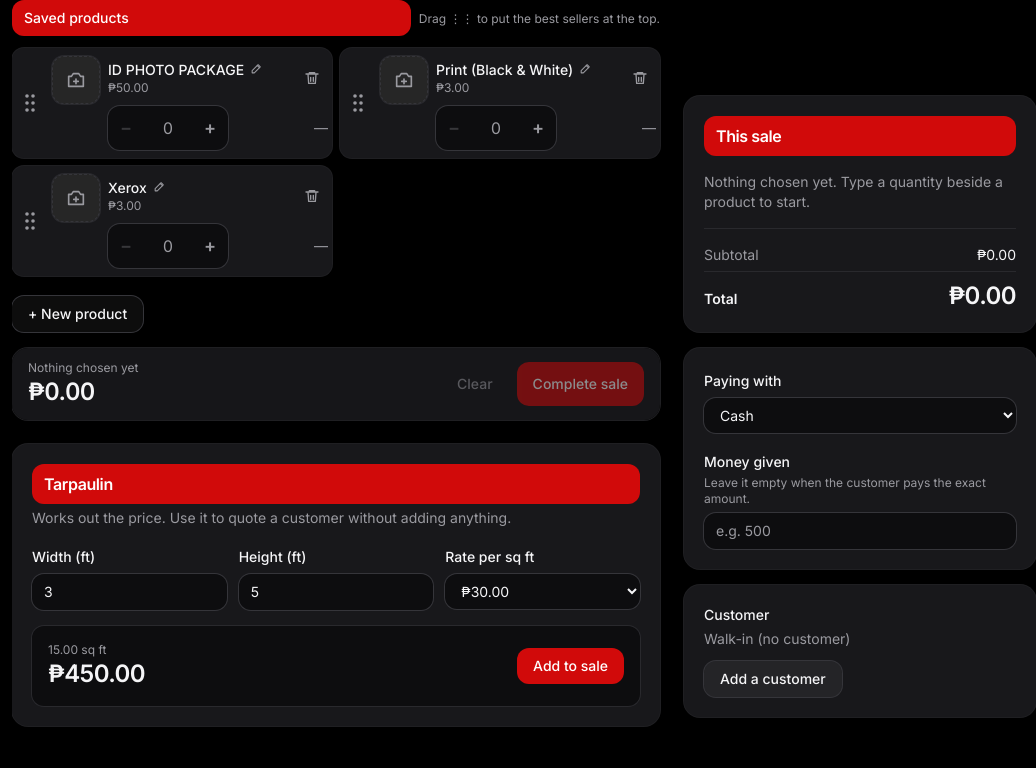
Scenario: the saved products list › keeps Complete sale off until something has a quantity, and Clear empties every box
Expected: the button "Complete sale" is disabled, [517,362,644,406]
Type "4" into the field named "Quantity of Xerox" at (168, 246), box [144,224,192,268]
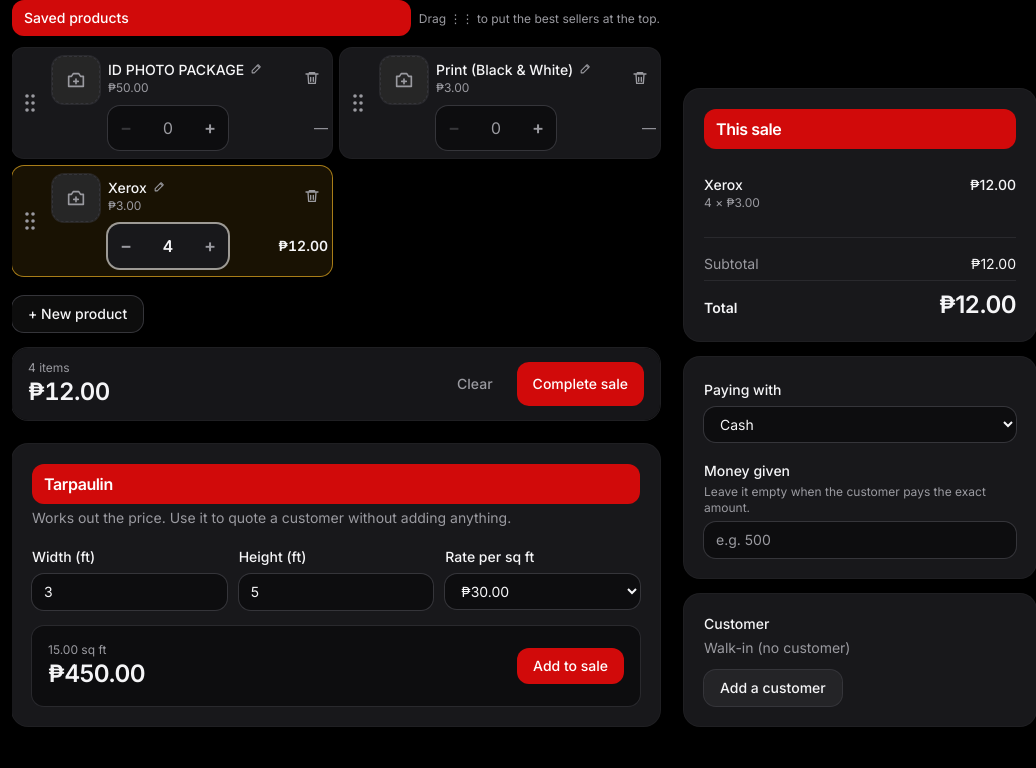
Result: the button "Complete sale" is enabled at [517,362,644,406]
Click the button "Clear" at (475, 384), box [441,366,509,402]
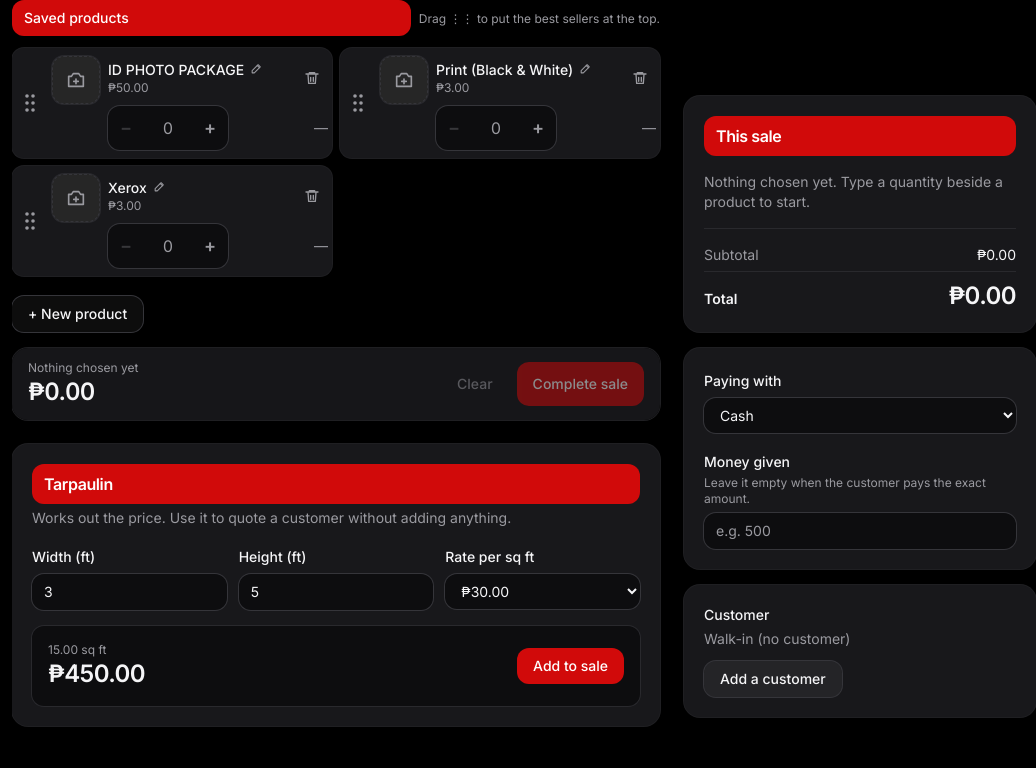
Result: the field named "Quantity of Xerox" is empty at [144,224,192,268]
Result: the button "Complete sale" is disabled at [517,362,644,406]
